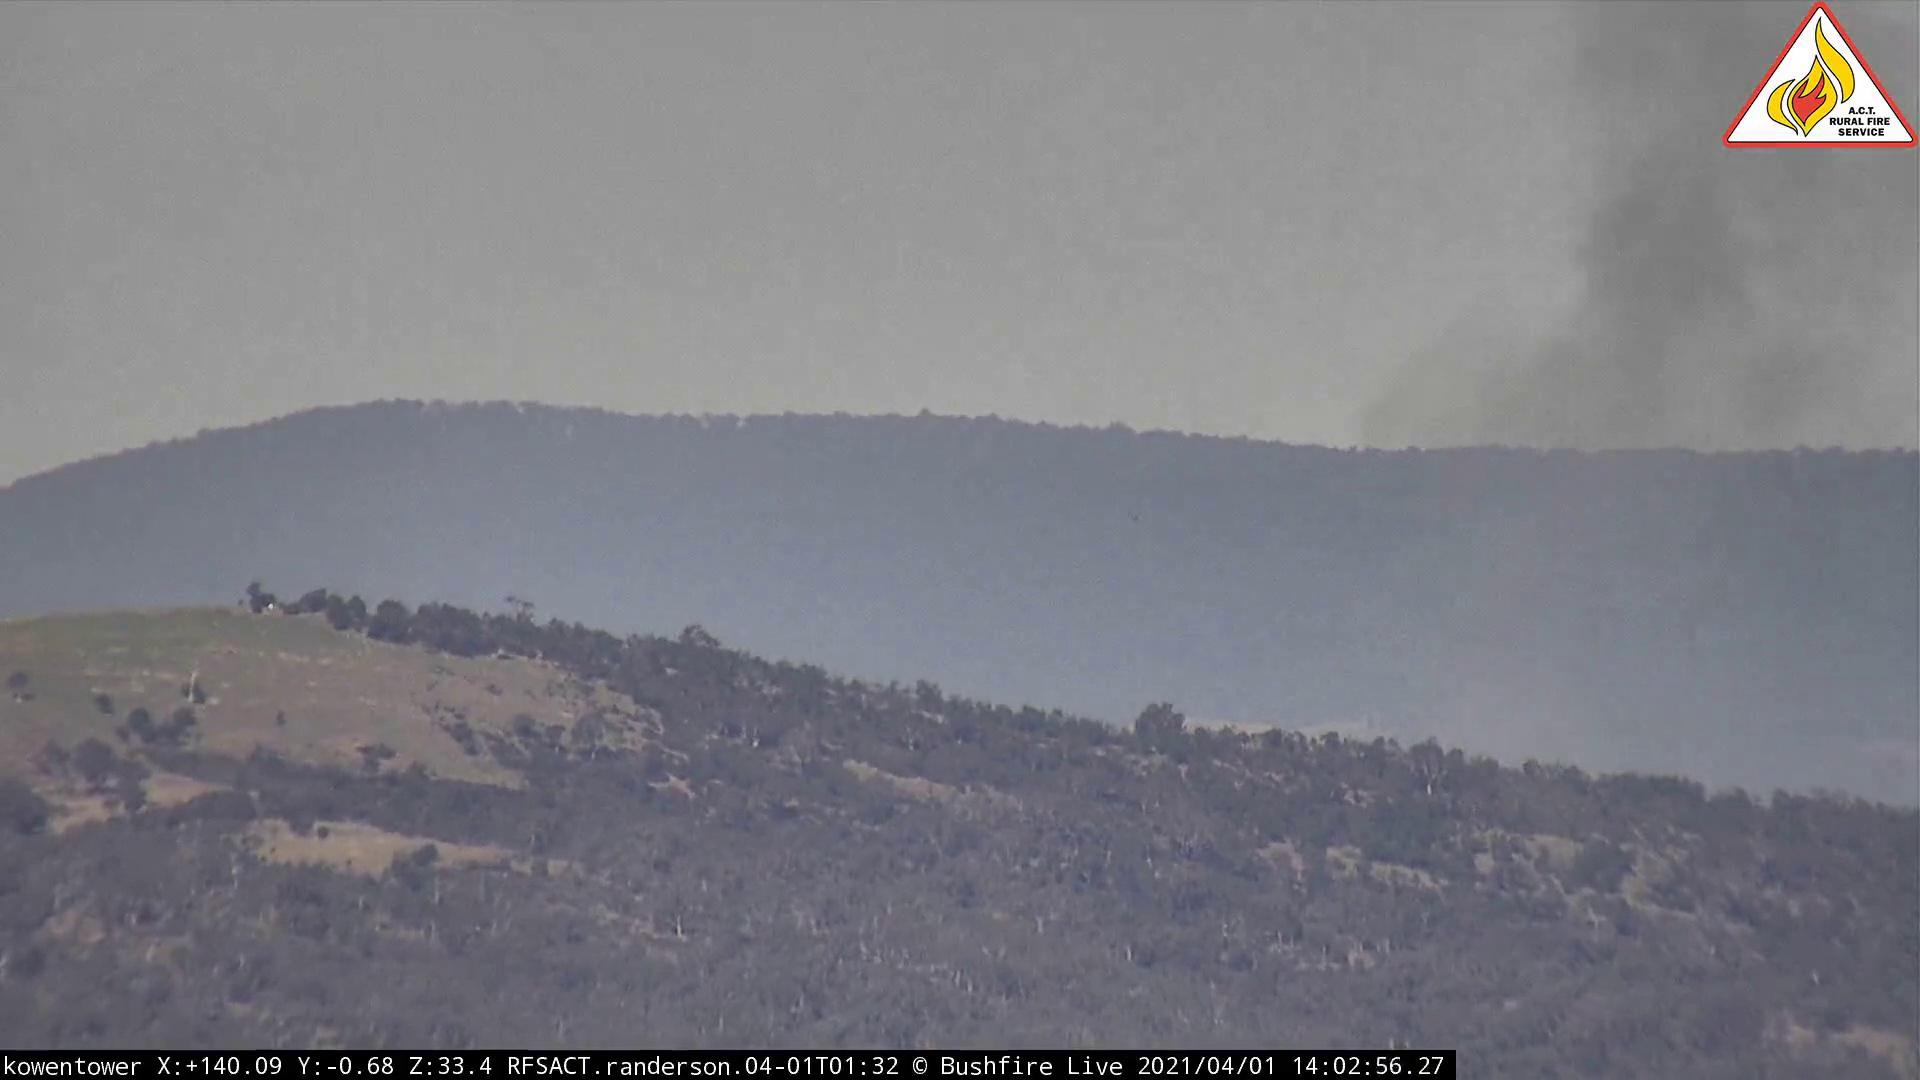instance_salient_object: (1335, 156, 1920, 829)
